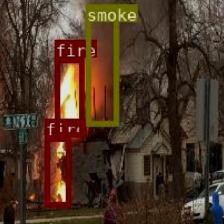fire: (54, 57, 83, 135), (44, 136, 70, 206)
smoke: (85, 3, 117, 124)
